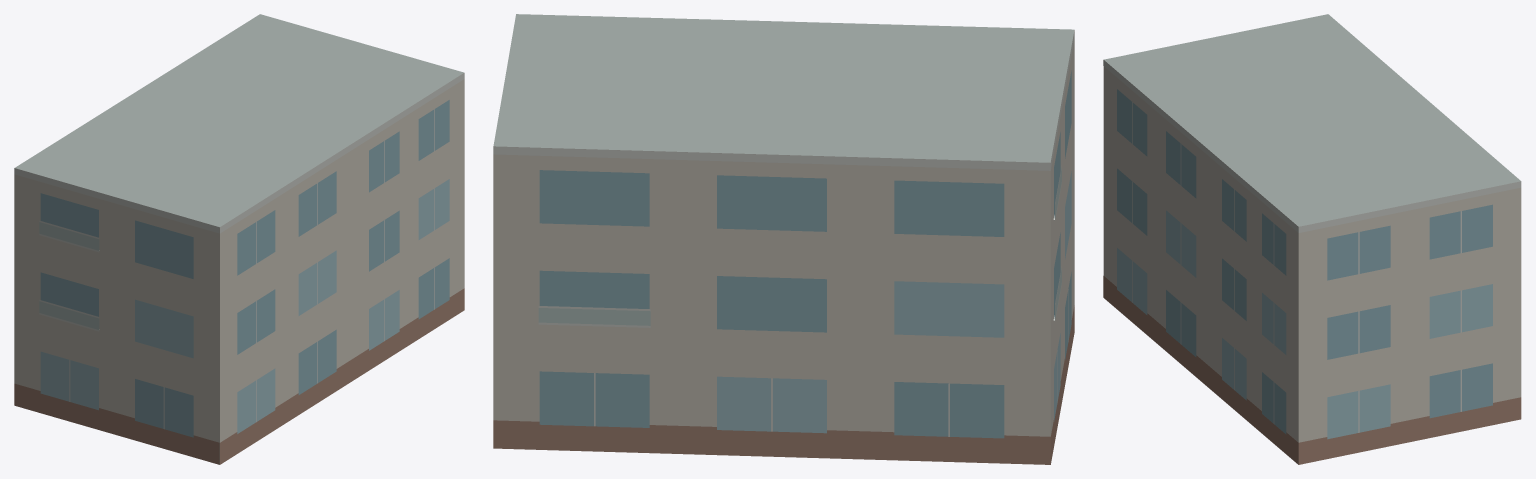
The model's file is survey-upis-32705591.glb.
3 renders of one model, left to right at view 1: azimuth 30°, elevation 25°; view 2: azimuth 150°, elevation 25°; view 3: azimuth 270°, elevation 25°, orthographic. The views are drawn at different scales.
Visible parts, largest first — view 1: survey-upis-32705591.tmp; view 2: survey-upis-32705591.tmp; view 3: survey-upis-32705591.tmp.
Part boxes in pixels (box(x1,y1,x2,y2)): survey-upis-32705591.tmp: box(14, 14, 464, 464); survey-upis-32705591.tmp: box(493, 14, 1074, 464); survey-upis-32705591.tmp: box(1103, 14, 1521, 464).
Bounding box in the file's own units: 17.55 × 9.15 × 14.56.
